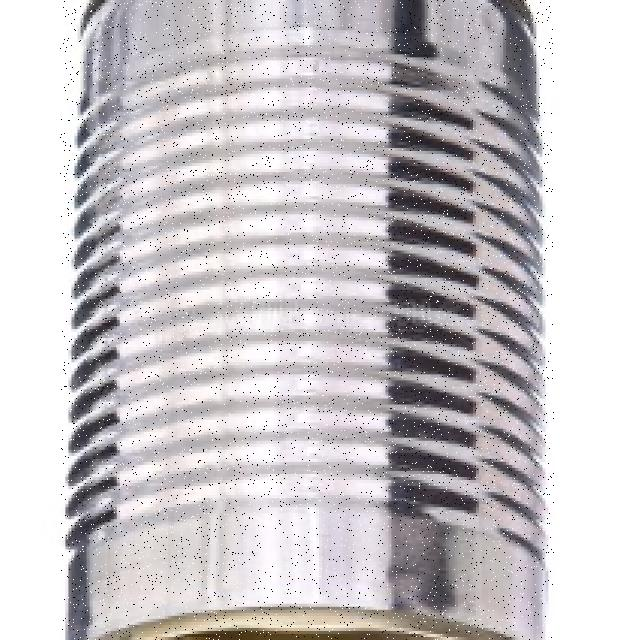metal: (61, 0, 554, 640)
